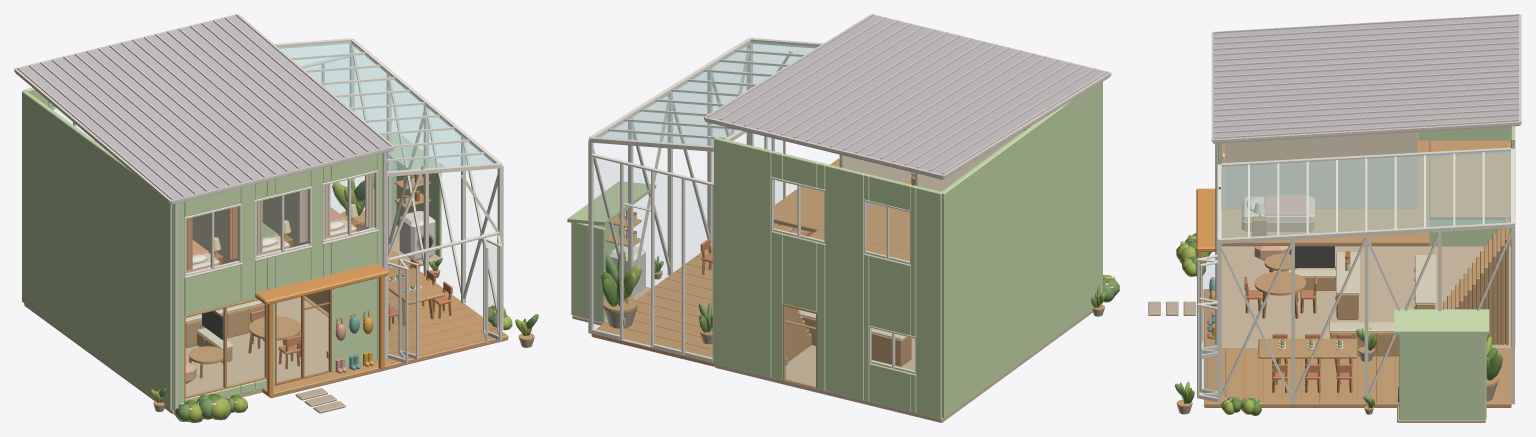
File: 26-B-8a449d04acc4.glb
3 views of the same model, side by side, from view 1: azimuth 30°, elevation 25°; view 2: azimuth 150°, elevation 25°; view 3: azimuth 270°, elevation 25° (orthographic). The views are drawn at different scales.
Visible parts, largest first — view 1: A 西侧与后侧围护, R 锌灰直立锁边屋面, A 淡绿正立面, R 纵向金属咬口, R 冬园夹层玻璃, S 起居核地板, S 冬园与门廊木平台, D 窗框与玻璃, I 桌椅 · 木工与软垫, D 冬园折叠玻璃门, A 楼上卧室隔墙, D 冬园斜撑 (+23 smaller); view 2: A 后立面服务入口, A 西侧与后侧围护, R 锌灰直立锁边屋面, R 纵向金属咬口, R 冬园夹层玻璃, S 冬园与门廊木平台, S 卧室楼板, A 冬园背面窗, A 冬园白色边柱, A 洗衣间, L 盆栽, S 起居核地板 (+12 smaller); view 3: R 锌灰直立锁边屋面, R 冬园夹层玻璃, R 纵向金属咬口, S 起居核地板, A 楼上卧室隔墙, S 卧室楼板, S 冬园与门廊木平台, A 洗衣间, I 桌椅 · 木工与软垫, I 橱柜与工作台, R 冬园钢屋架, S 内楼梯 (+20 smaller).
Part boxes in pixels (bbox=[...]): A 西侧与后侧围护: bbox=[22, 90, 172, 409]; R 锌灰直立锁边屋面: bbox=[16, 15, 393, 204]; A 淡绿正立面: bbox=[172, 153, 382, 410]; R 纵向金属咬口: bbox=[17, 14, 391, 199]; R 冬园夹层玻璃: bbox=[278, 41, 495, 171]; S 起居核地板: bbox=[24, 297, 328, 413]; S 冬园与门廊木平台: bbox=[304, 249, 508, 365]; D 窗框与玻璃: bbox=[53, 107, 377, 399]; I 桌椅 · 木工与软垫: bbox=[188, 258, 452, 378]; D 冬园折叠玻璃门: bbox=[387, 235, 501, 363]; A 楼上卧室隔墙: bbox=[192, 189, 308, 264]; D 冬园斜撑: bbox=[352, 46, 497, 315]; A 后立面服务入口: bbox=[713, 137, 941, 418]; A 西侧与后侧围护: bbox=[941, 82, 1102, 418]; R 锌灰直立锁边屋面: bbox=[705, 15, 1109, 179]; R 纵向金属咬口: bbox=[707, 14, 1107, 174]; R 冬园夹层玻璃: bbox=[597, 41, 818, 145]; S 冬园与门廊木平台: bbox=[591, 228, 813, 366]; S 卧室楼板: bbox=[774, 157, 911, 261]; A 冬园背面窗: bbox=[591, 153, 713, 363]; A 冬园白色边柱: bbox=[588, 68, 712, 333]; A 洗衣间: bbox=[571, 222, 619, 322]; L 盆栽: bbox=[601, 250, 1106, 344]; S 起居核地板: bbox=[715, 310, 1092, 422]; R 锌灰直立锁边屋面: bbox=[1213, 16, 1520, 143]; R 冬园夹层玻璃: bbox=[1221, 151, 1510, 238]; R 纵向金属咬口: bbox=[1214, 14, 1518, 138]; S 起居核地板: bbox=[1221, 246, 1511, 348]; A 楼上卧室隔墙: bbox=[1225, 132, 1418, 208]; S 卧室楼板: bbox=[1221, 140, 1510, 245]; S 冬园与门廊木平台: bbox=[1204, 348, 1511, 407]; A 洗衣间: bbox=[1399, 334, 1486, 419]; I 桌椅 · 木工与软垫: bbox=[1244, 253, 1357, 392]; I 橱柜与工作台: bbox=[1288, 252, 1436, 356]; R 冬园钢屋架: bbox=[1217, 147, 1514, 243]; S 内楼梯: bbox=[1441, 217, 1508, 344].
Size of the model in its own units: 22.28 by 13.47 by 19.47.
